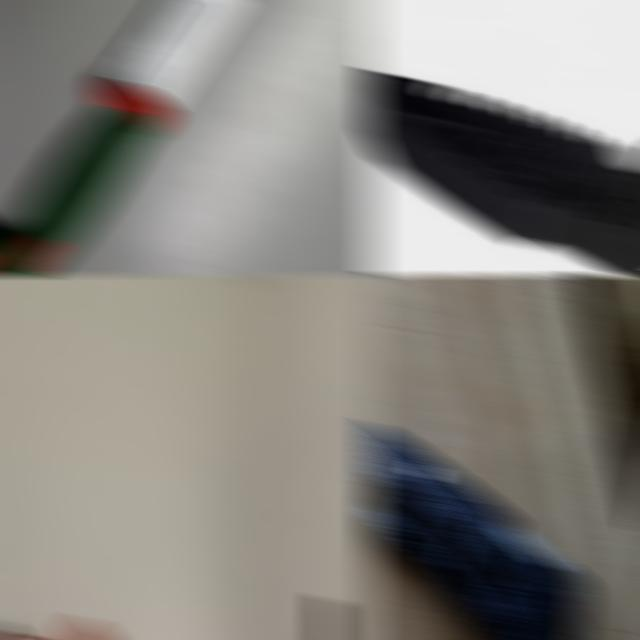Knife: (0, 0, 242, 276), (363, 69, 640, 276)
Knife_Handle: (0, 364, 138, 640)
